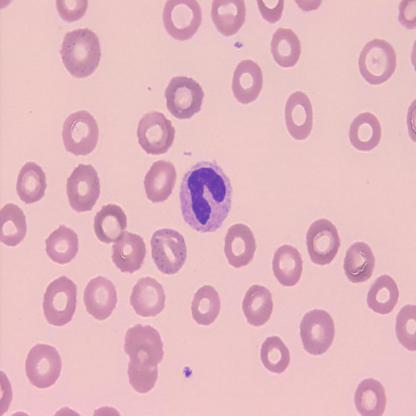Band Neutrophil: (178, 158, 233, 235)
